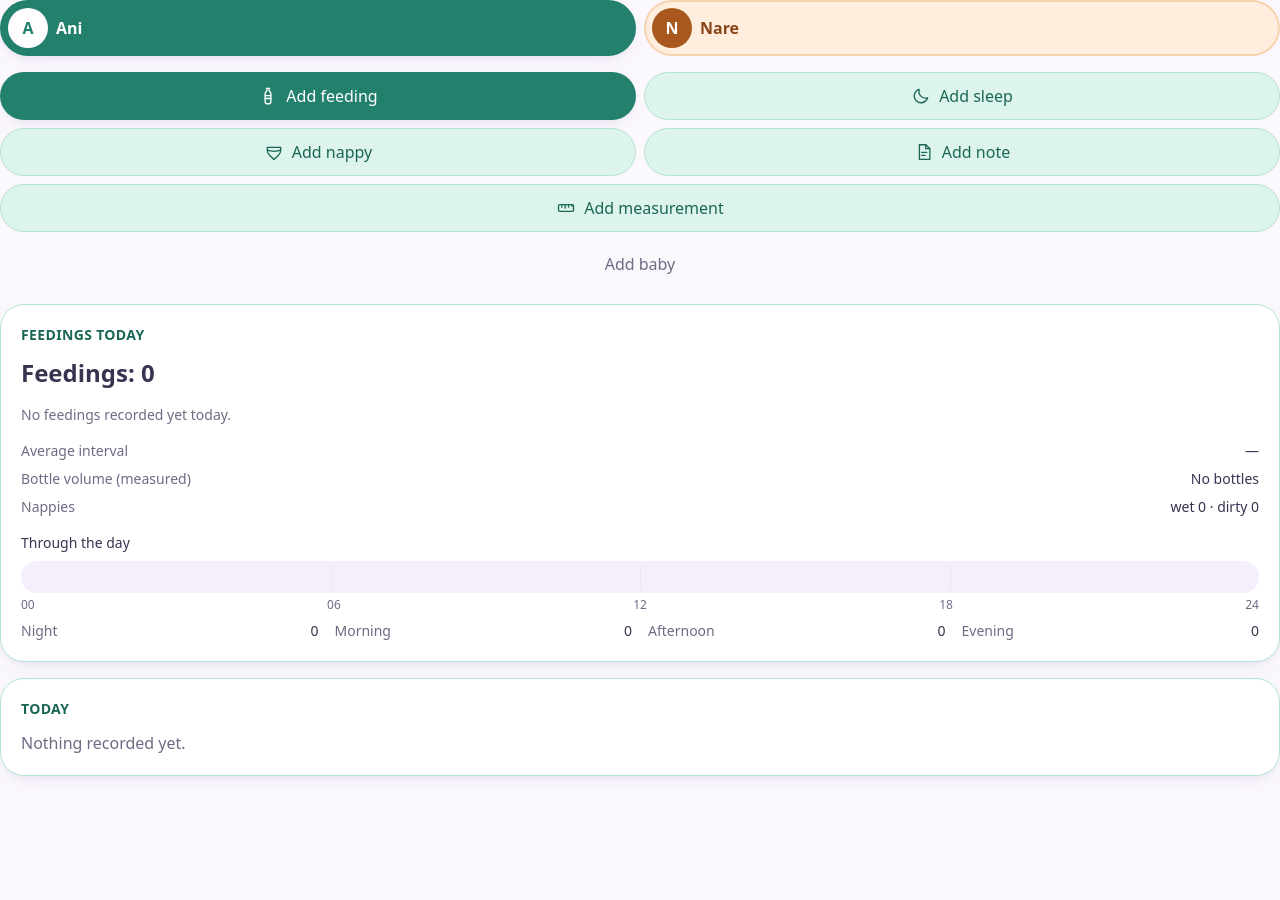
Test: adding a nappy › opens the nappy form when the Add nappy action is used
Expected: the button "Add feeding" is shown, [0,72,636,120]
Expected: the button "Add sleep" is shown, [644,72,1279,120]
Click the button "Add nappy". click: click(318, 152)
box: [0,128,636,176]
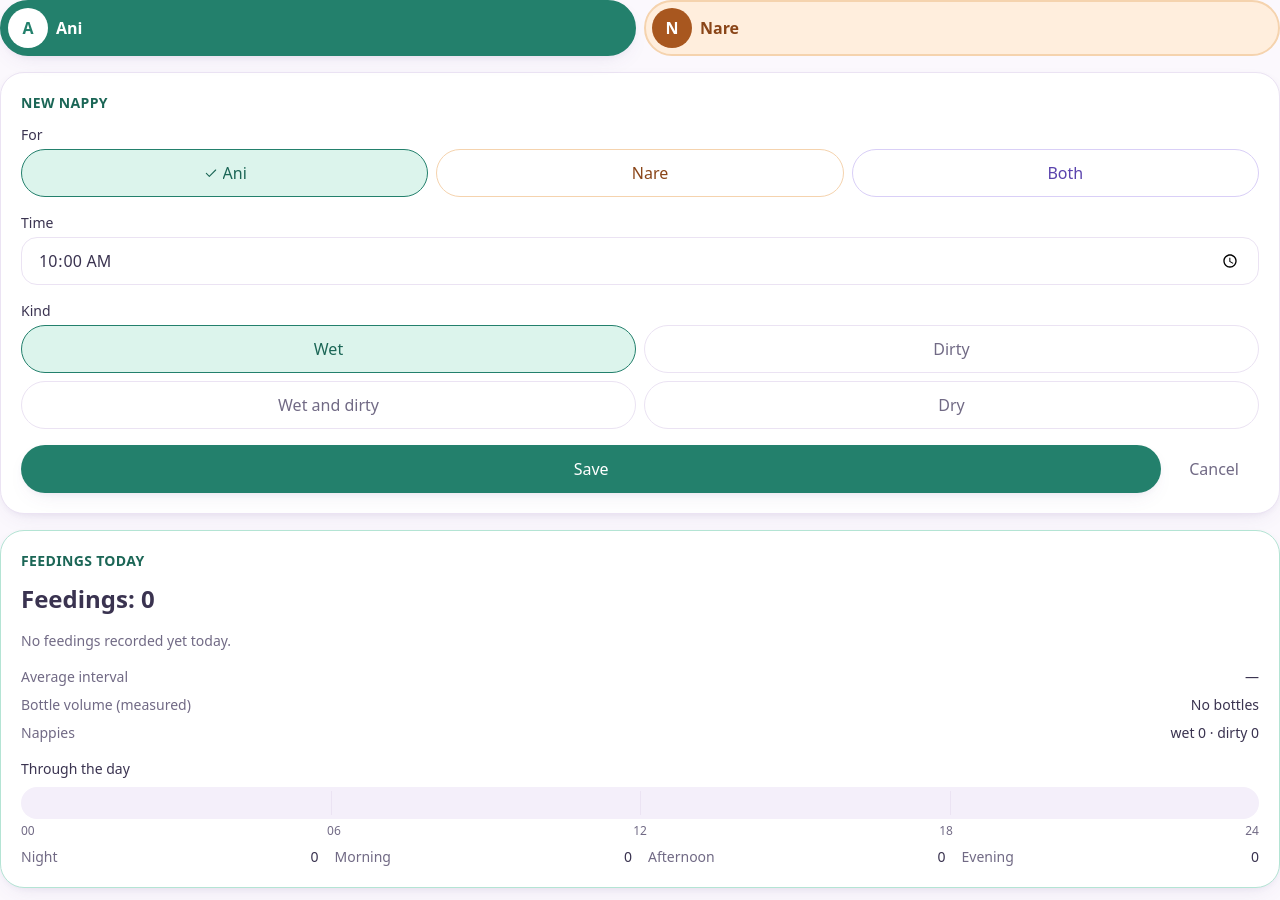
Now the heading "New nappy" is shown, box [21,93,108,112]
Now the button "Save" is shown, box [21,445,1161,493]
Now the button "Cancel" is shown, box [1169,445,1259,493]
